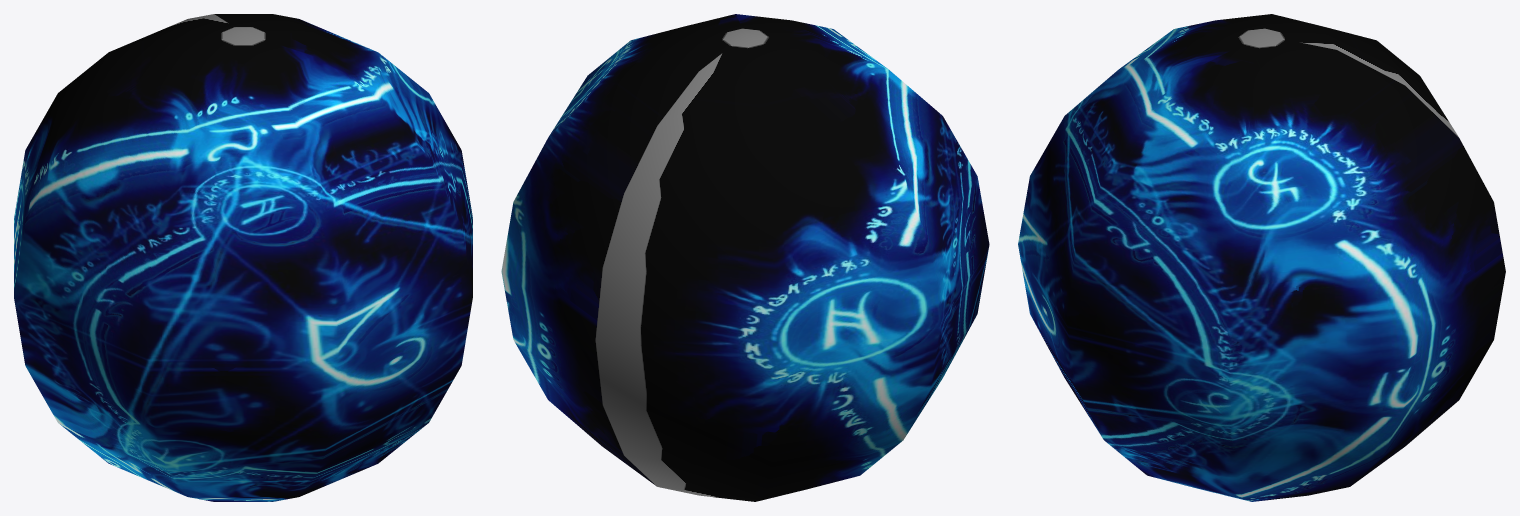
Rendered from magic_ball.fbx.
The picture shows the model from 3 angles, left to right: view 1: azimuth 30°, elevation 25°; view 2: azimuth 150°, elevation 25°; view 3: azimuth 270°, elevation 25°; orthographic projection.
Visible parts, largest first — view 1: pSphere1; view 2: pSphere1; view 3: pSphere1.
Boxes of the visible parts, x1,y1,x2,y2 form: pSphere1: [14, 14, 472, 501]; pSphere1: [501, 14, 989, 501]; pSphere1: [1018, 14, 1505, 501].
Bounding box in the file's own units: 26.49 × 26.73 × 26.49.
1 material, 1 textured.
